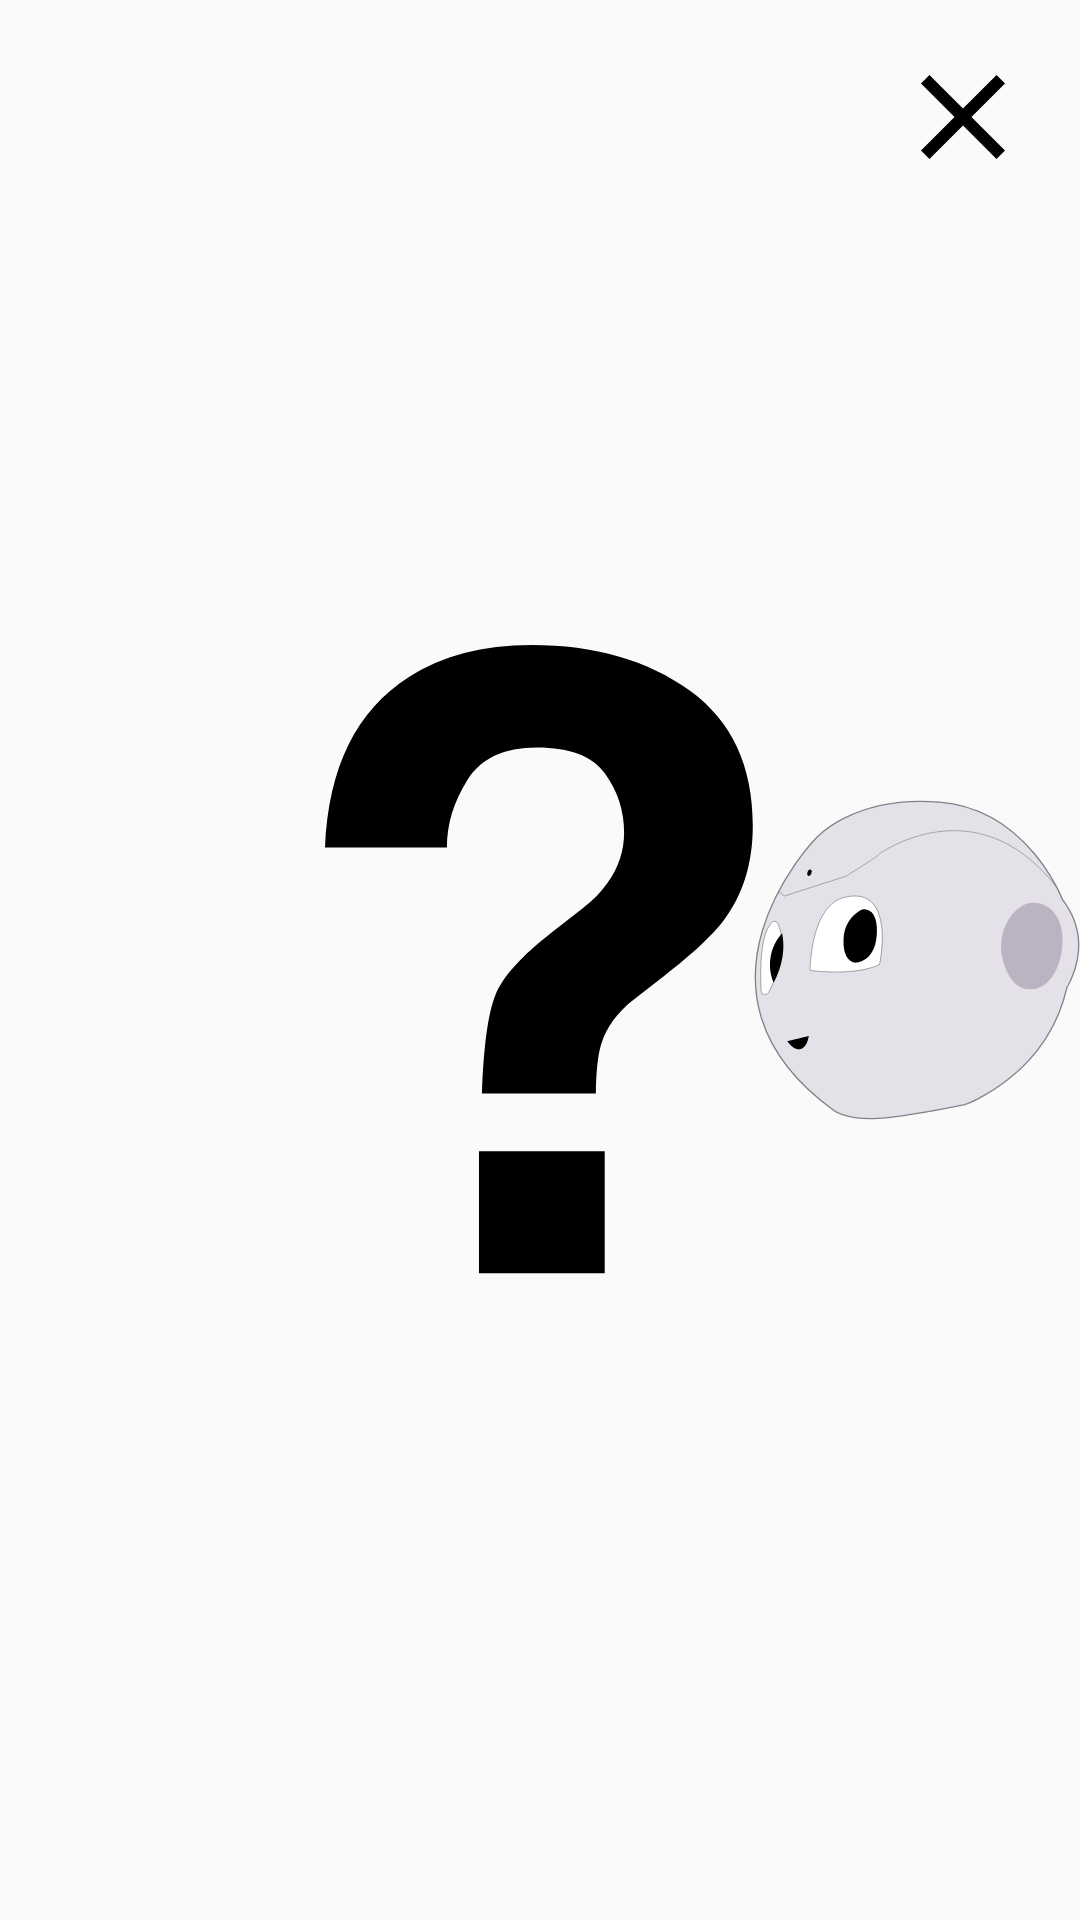

Screen size 1080px×1920px. Icon name, then its box in pixels as bbox=[x1, y1, x2, y2]:
cross: bbox=[921, 75, 1005, 159]
pepper head: bbox=[754, 800, 1080, 1120]
